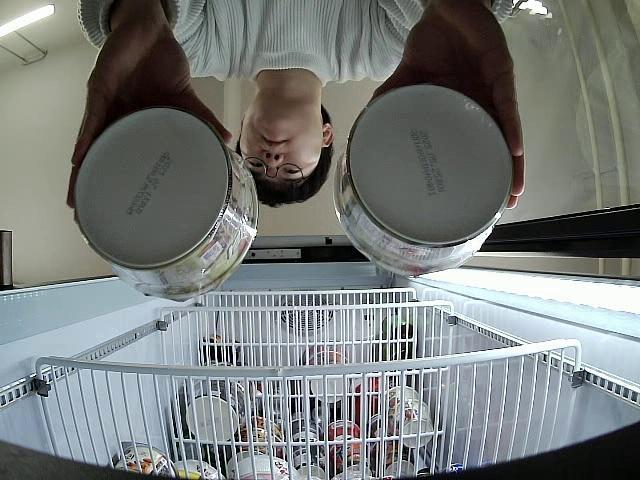03_chapagetti_L: (72, 106, 258, 300), (332, 82, 516, 278)
